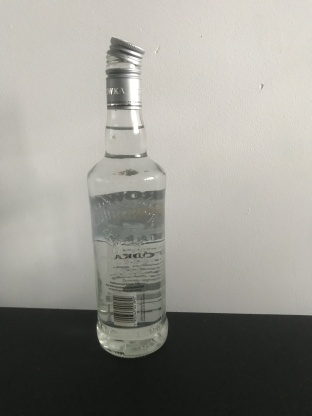nakretka: (103, 32, 146, 110)
